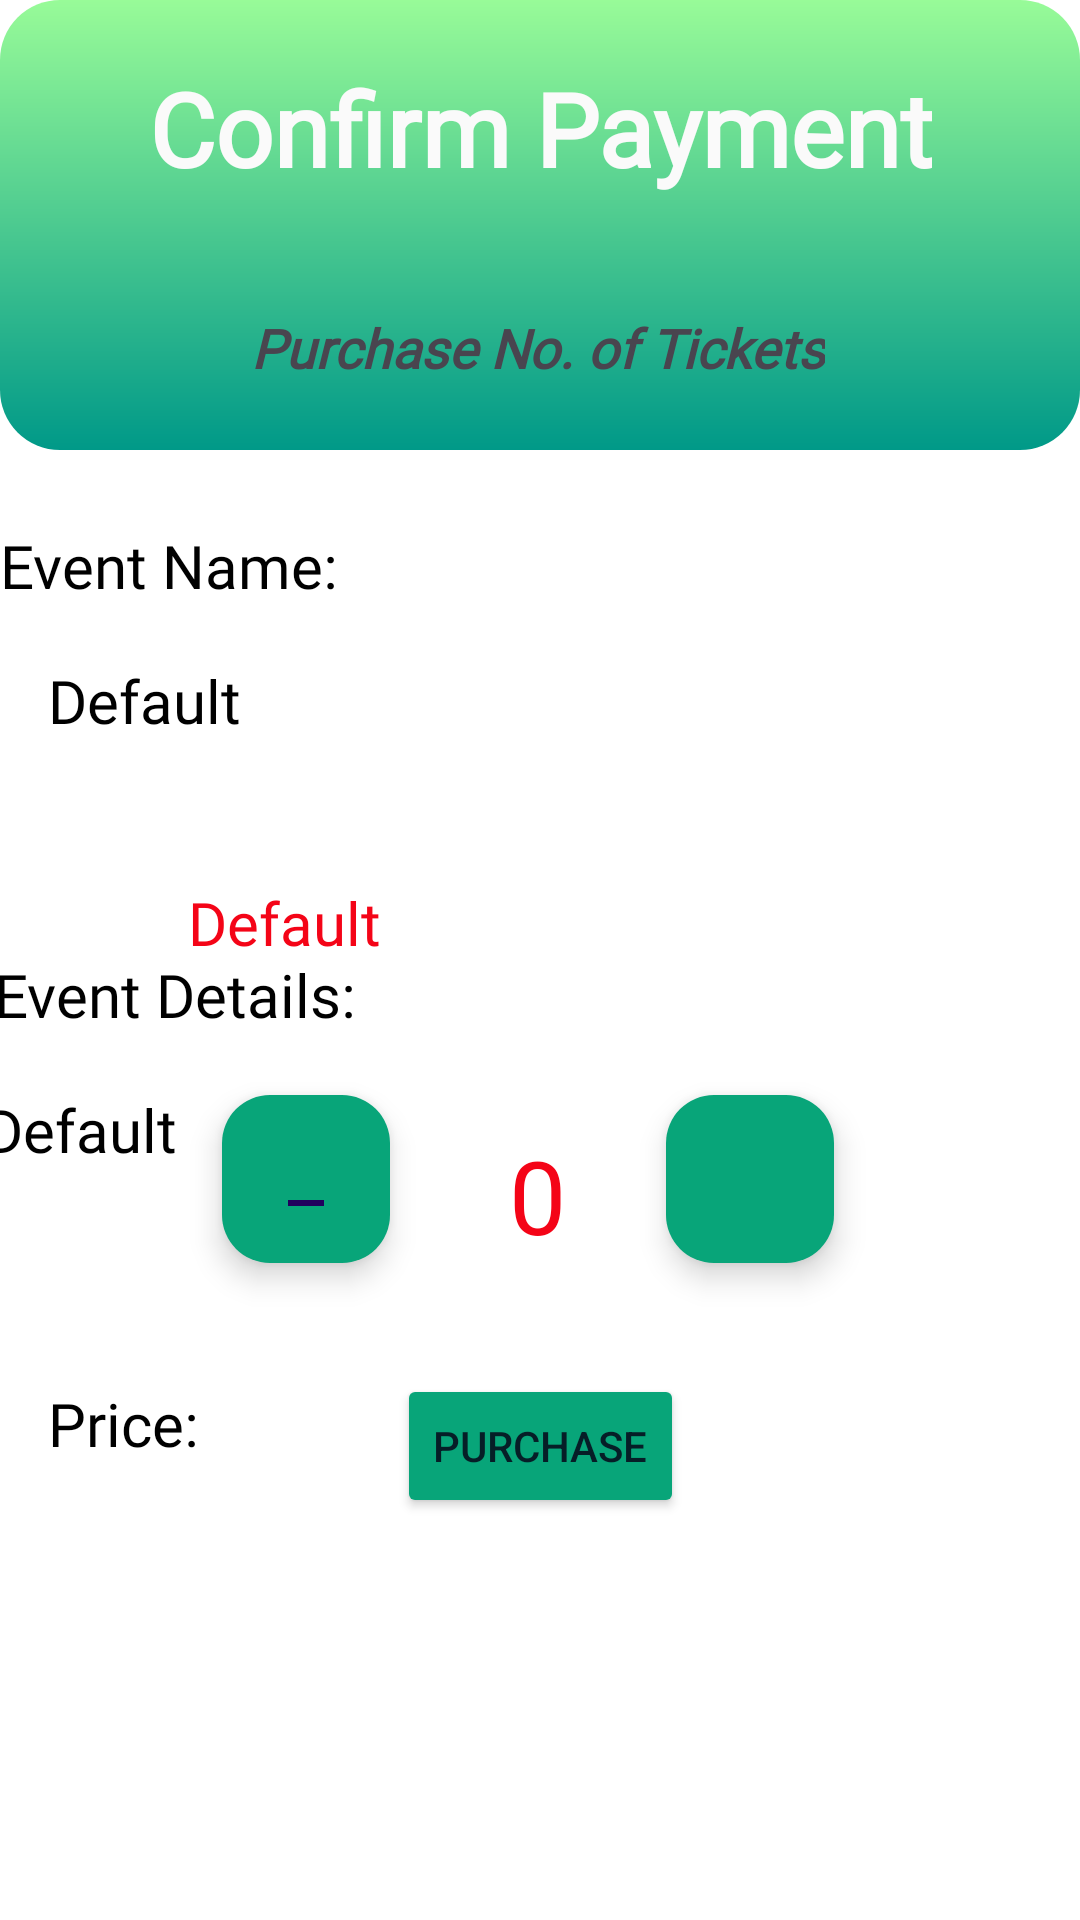

Point at icon controls on the screen. Image size 1080 x 1920, points as (x=x, y=y).
minimize: (x=306, y=1179)
